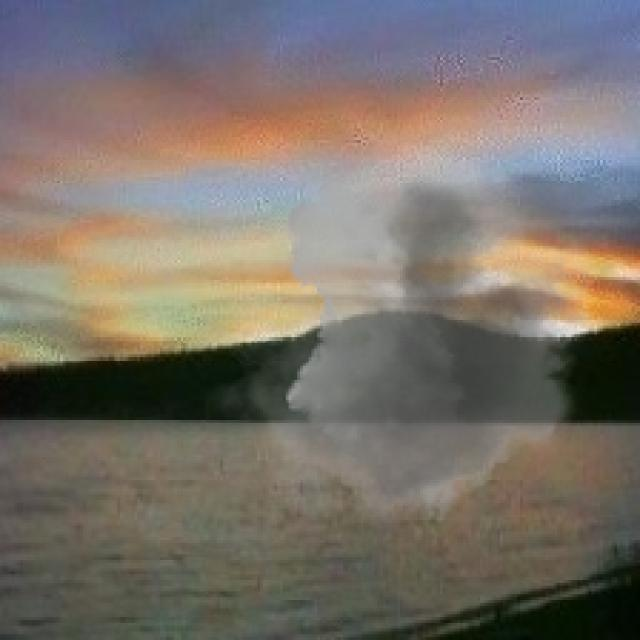Smoke: (202, 142, 614, 538)
